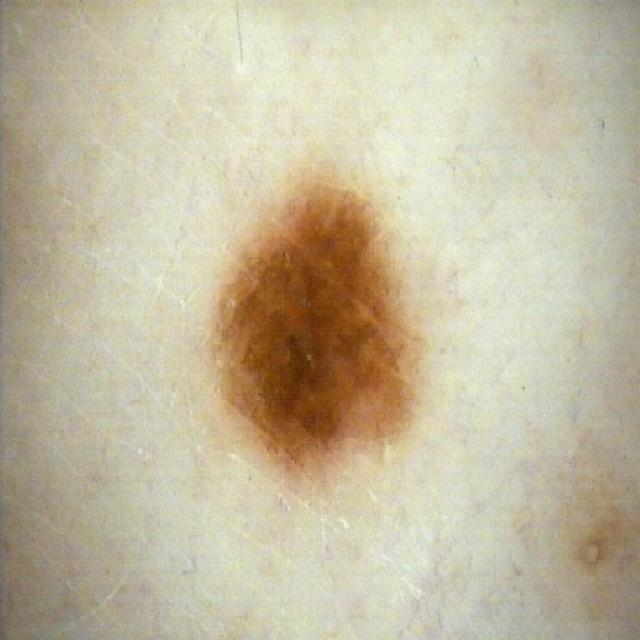Melanoma: (219, 184, 408, 454)
